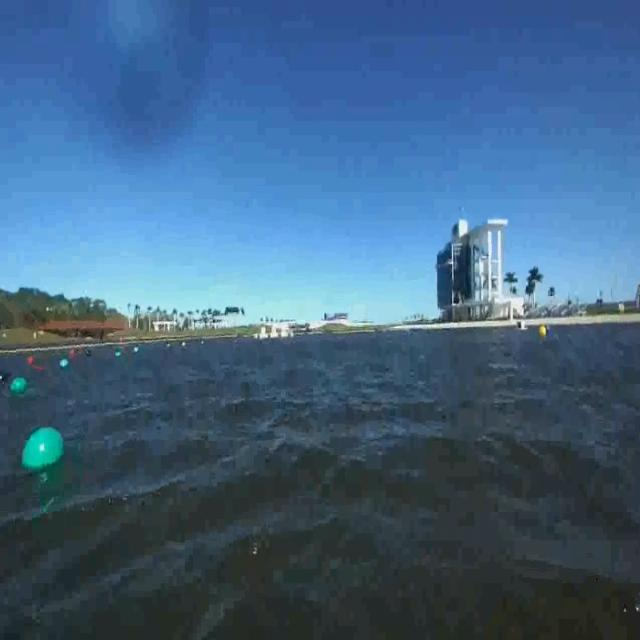green-buoy: (22, 429, 66, 475), (10, 376, 27, 394)
yellow-buoy: (538, 323, 547, 338)
